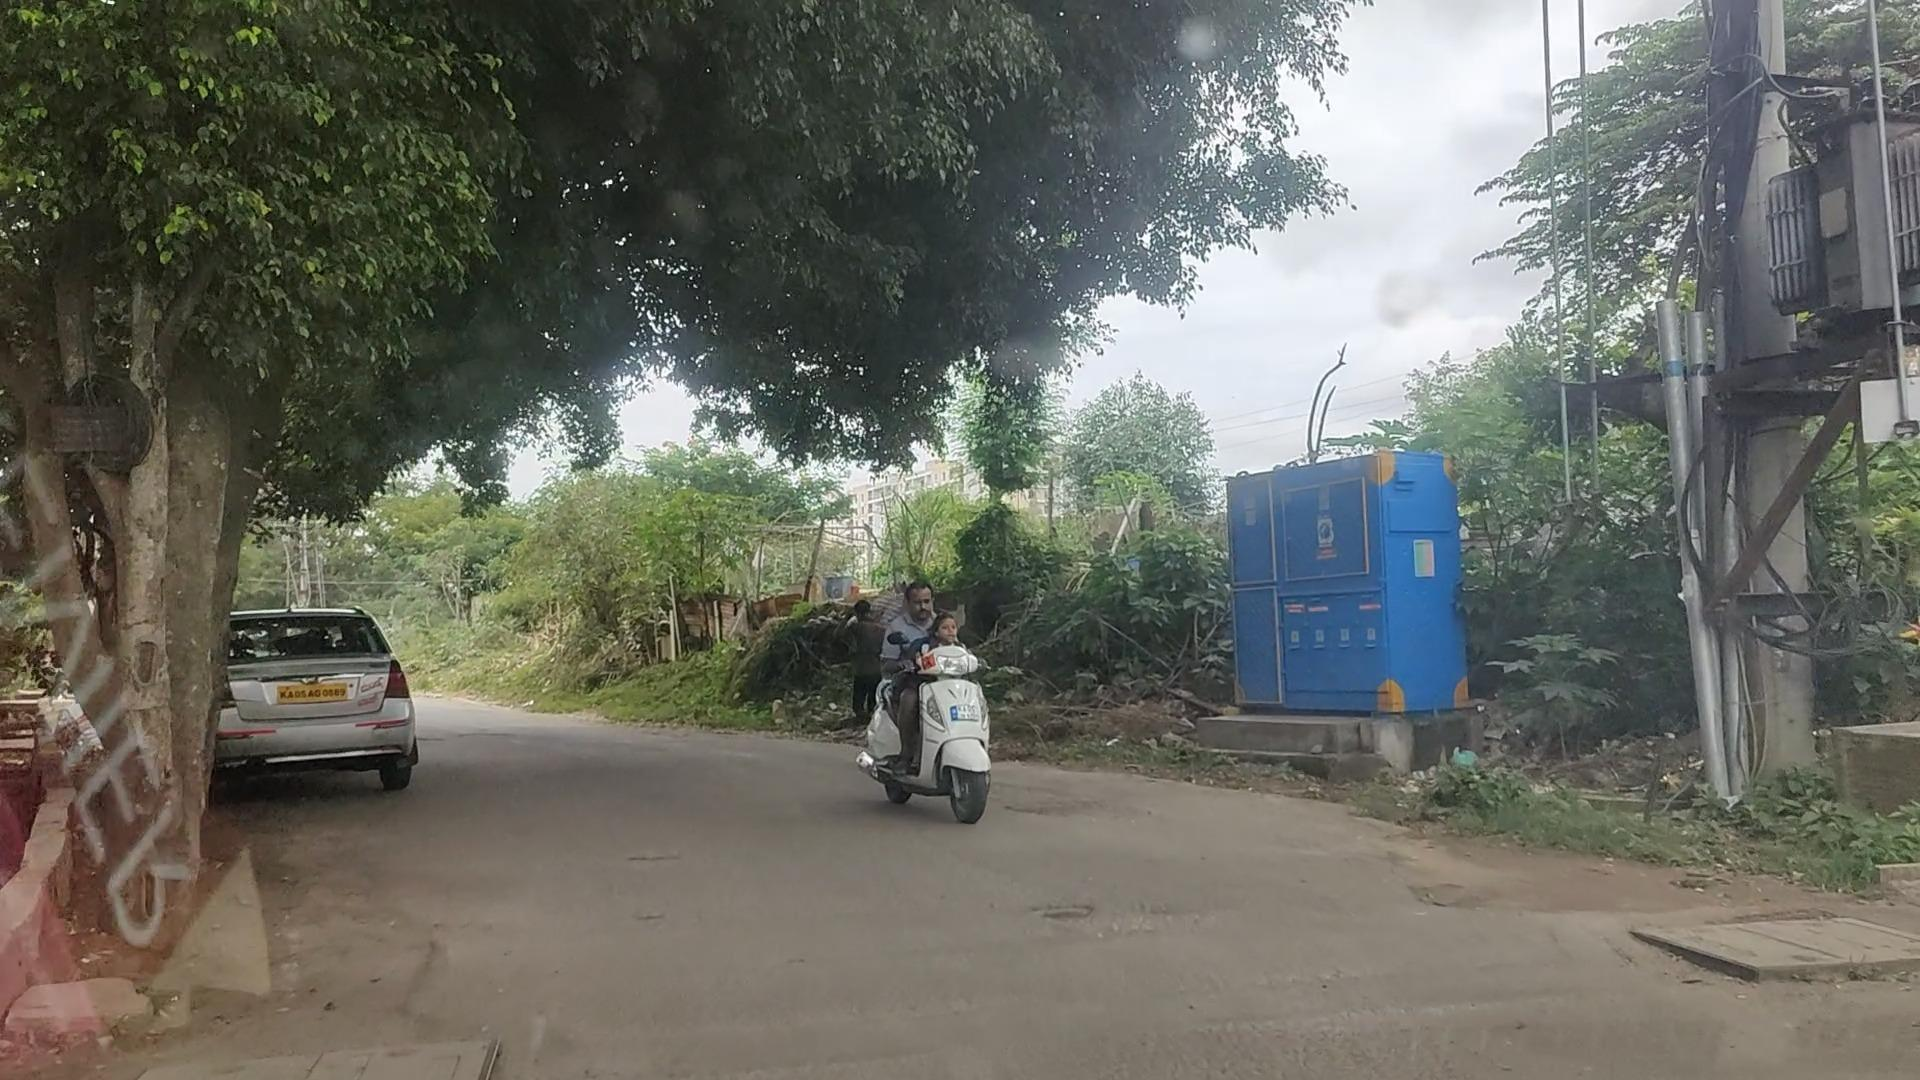LMV: (877, 582, 1005, 823)
